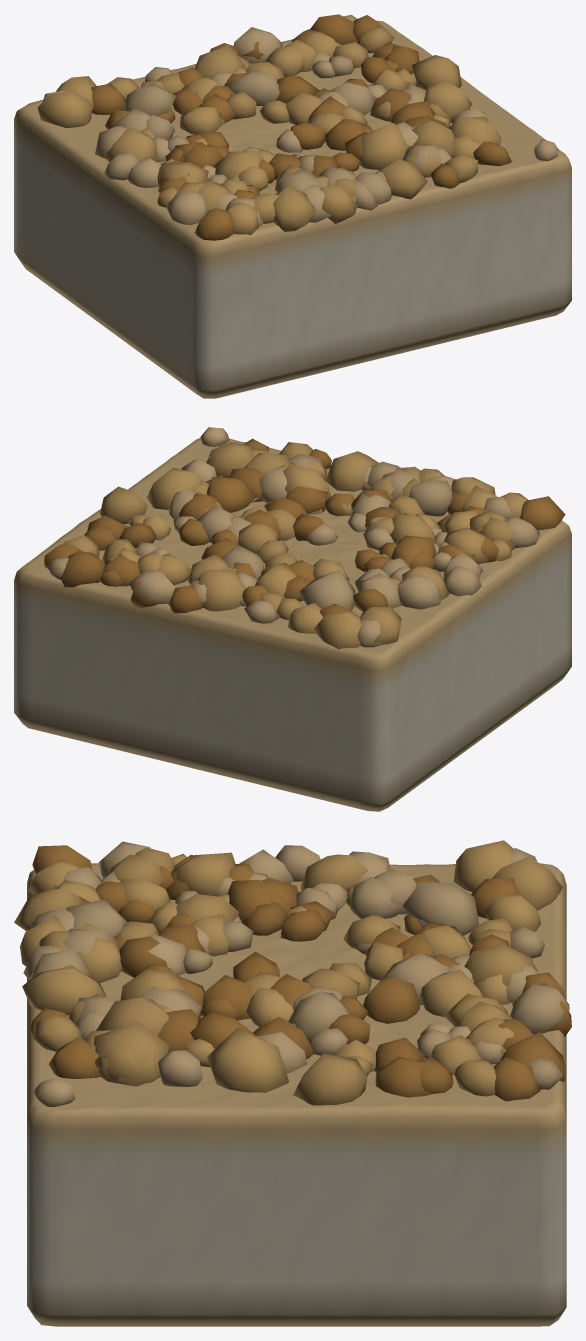
File: streusel.glb
The picture shows the model from 3 angles, top to bottom: view 1: azimuth 30°, elevation 25°; view 2: azimuth 150°, elevation 25°; view 3: azimuth 270°, elevation 25°; orthographic projection. The views are drawn at different scales.
Visible parts, largest first — view 1: streusel; view 2: streusel; view 3: streusel.
Part boxes in pixels (x1,y1,x2,y2): streusel: (14, 14, 571, 398); streusel: (14, 427, 571, 811); streusel: (14, 840, 571, 1326).
Bounding box in the file's own units: 0.1 × 0.0484 × 0.0931.
